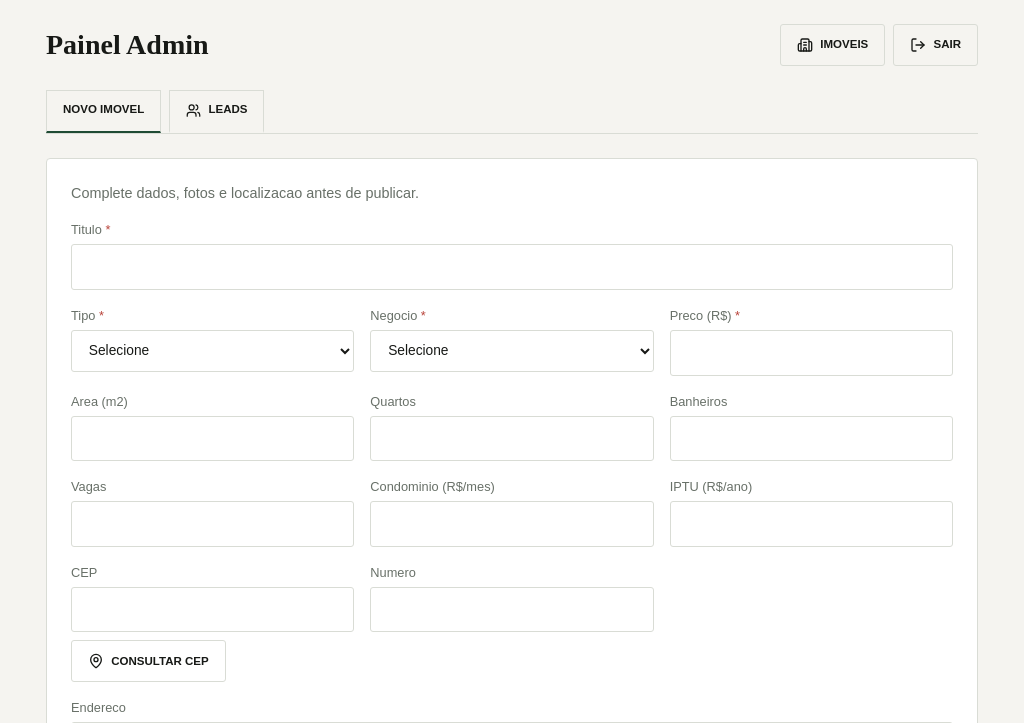
Test: AdminPage › usa mensagens fallback quando respostas externas nao possuem JSON valido
Type "01001000" into the field labelled "CEP" at (213, 610), box [71,587,354,632]
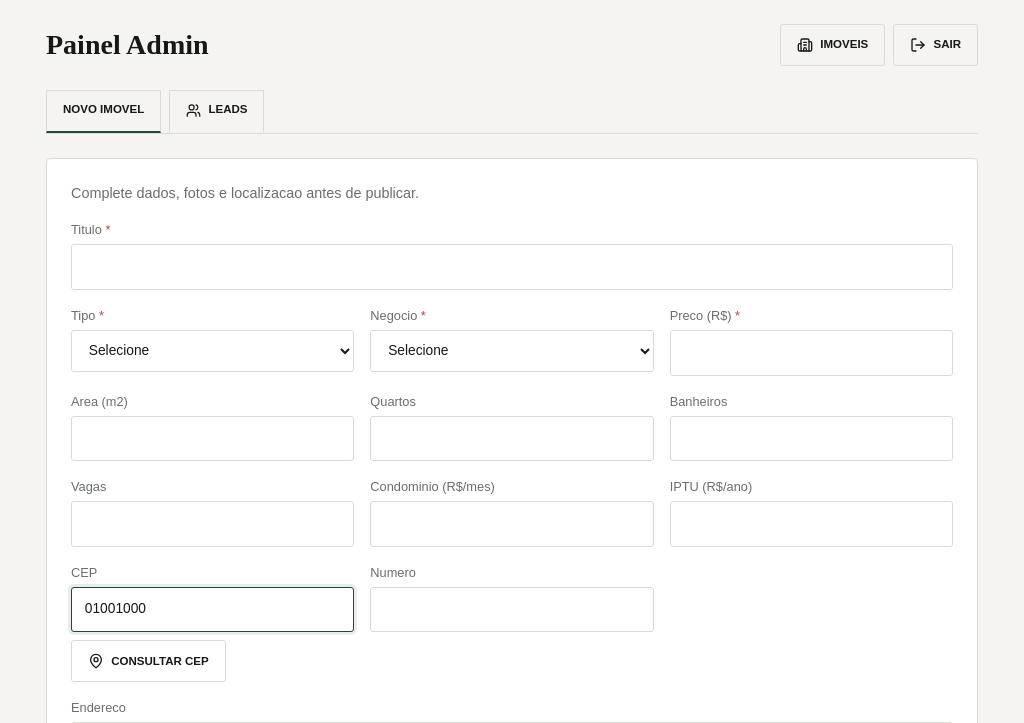
Click the button "Consultar CEP" at (148, 662), box [71,640,226,682]
(page scrolled)
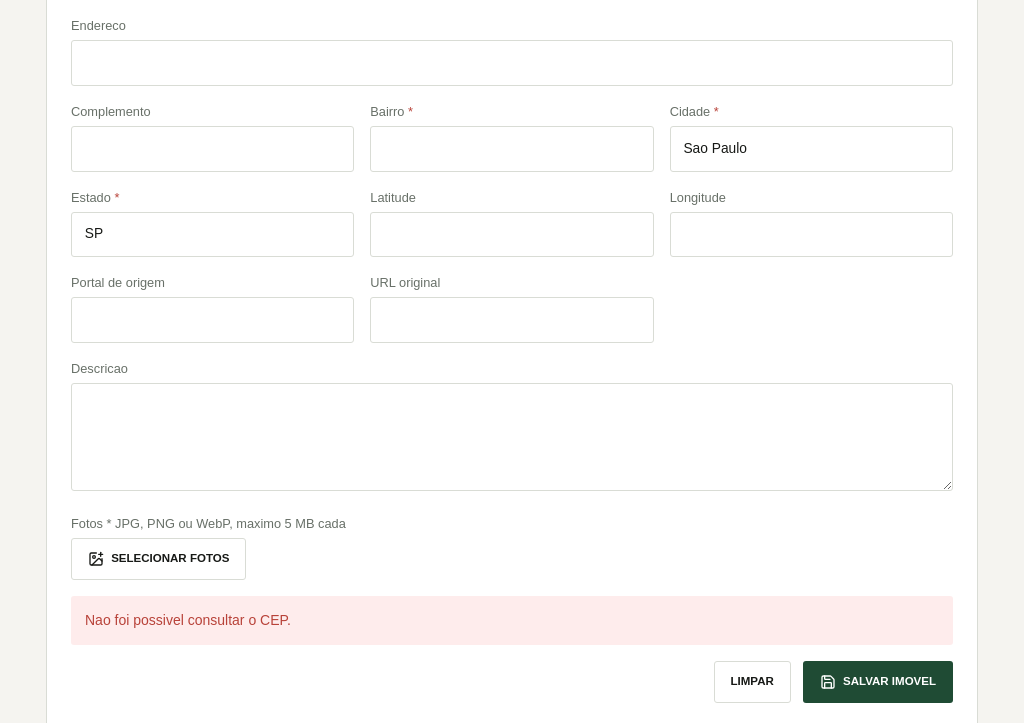
Check: the text "Nao foi possivel consultar o CEP." is shown, box [71,596,953,644]
